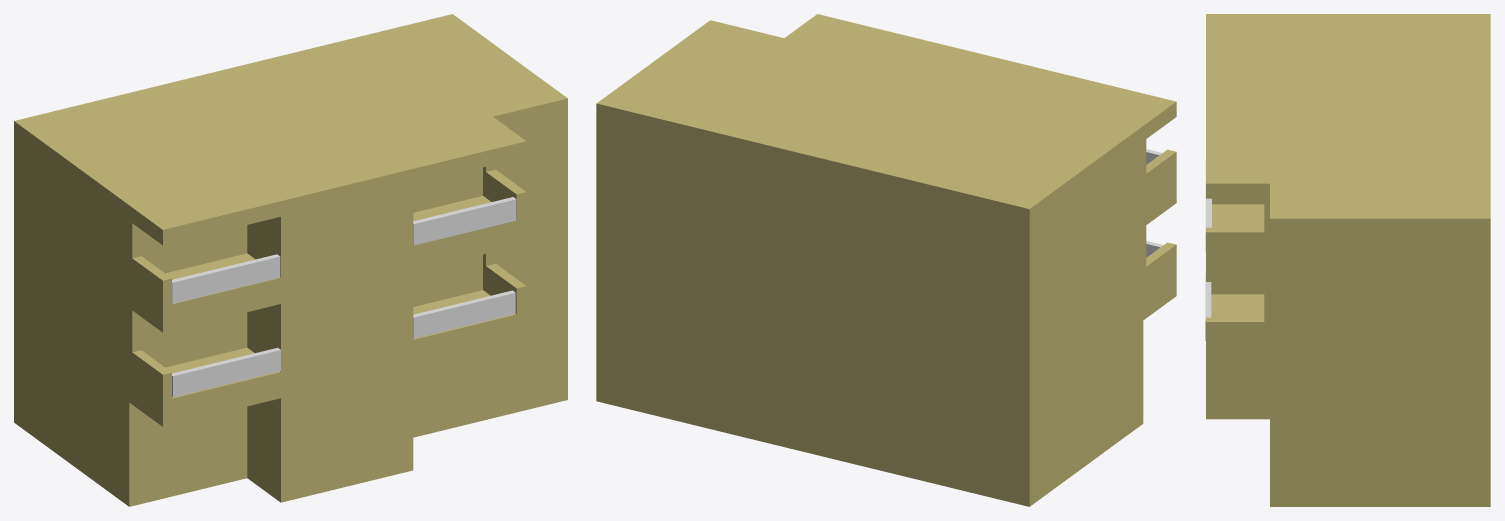
Rendered from Building2 Tehrain.fbx.
3 views of the same model, side by side, from view 1: azimuth 30°, elevation 25°; view 2: azimuth 150°, elevation 25°; view 3: azimuth 270°, elevation 25° (orthographic). The views are drawn at different scales.
Visible parts, largest first — view 1: Appartment, Window panes; view 2: Appartment; view 3: Appartment, Window panes.
Boxes of the visible parts, x1,y1,x2,y2 form: Appartment: (14, 14, 567, 506); Window panes: (172, 197, 516, 397); Appartment: (596, 14, 1176, 506); Appartment: (1206, 14, 1490, 506); Window panes: (1205, 161, 1211, 340).
Size of the model in its own units: 2196 by 1443 by 1293.
